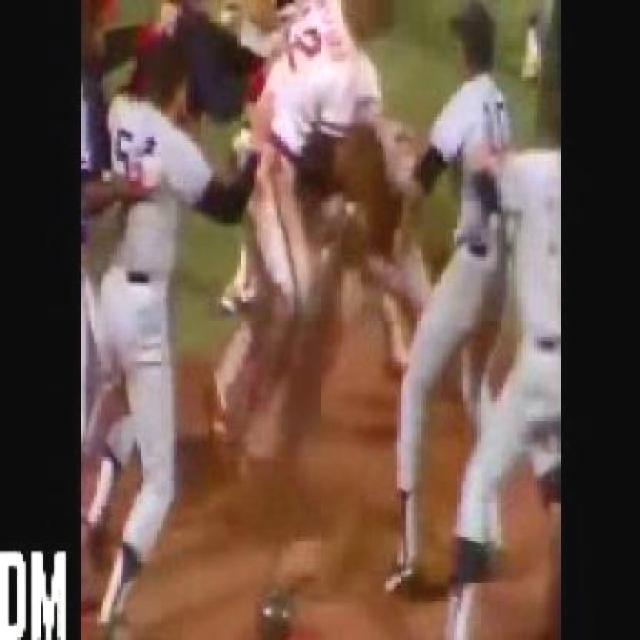fight: (222, 0, 436, 471)
